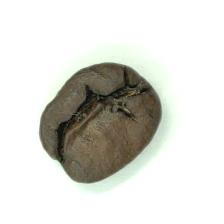NG: (48, 72, 136, 158)
